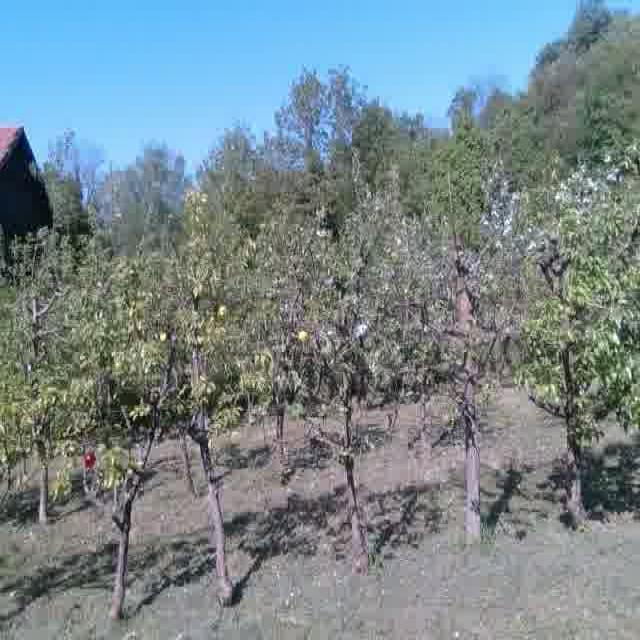red: (81, 450, 98, 469)
yellow: (295, 328, 309, 344), (216, 305, 228, 320)
